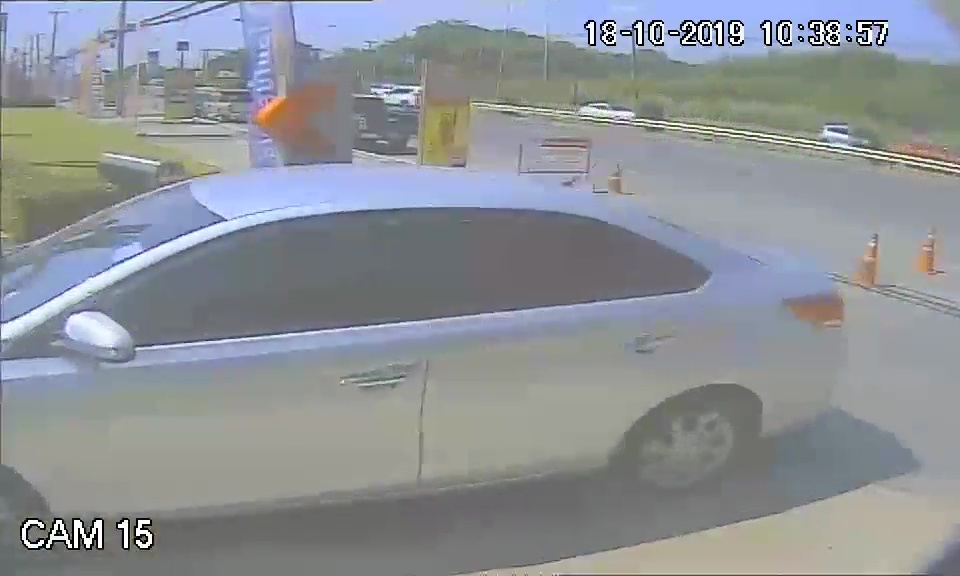sedan: (20, 165, 852, 505)
